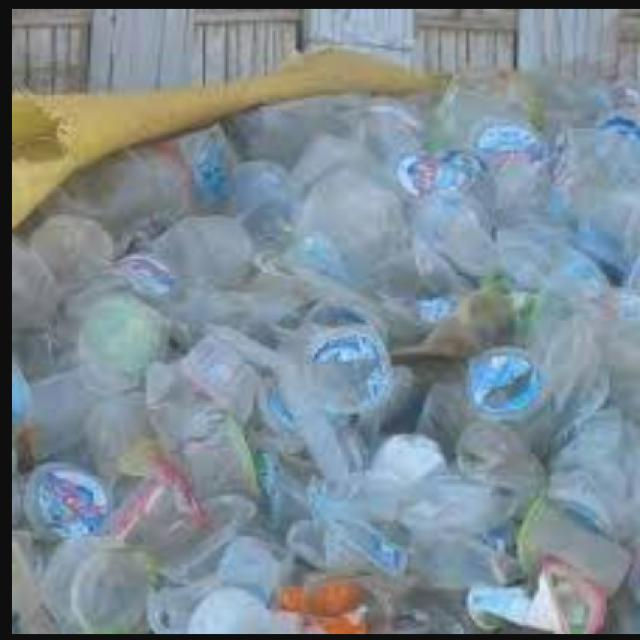GelasPlastik: (12, 62, 638, 634)
